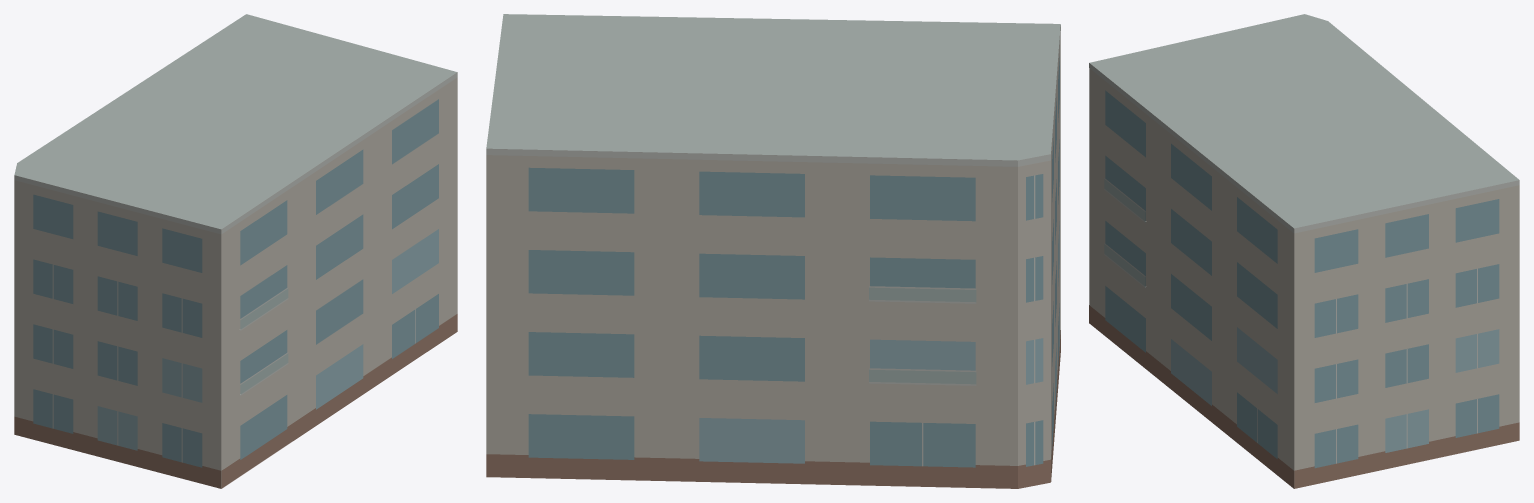
File: survey-upis-32597782.glb
3 renders of one model, left to right at view 1: azimuth 30°, elevation 25°; view 2: azimuth 150°, elevation 25°; view 3: azimuth 270°, elevation 25°, orthographic. The views are drawn at different scales.
Visible parts, largest first — view 1: survey-upis-32597782.tmp; view 2: survey-upis-32597782.tmp; view 3: survey-upis-32597782.tmp.
Boxes of the visible parts, left/top/right/bottom form: survey-upis-32597782.tmp: left=14, top=14, right=457, bottom=488; survey-upis-32597782.tmp: left=486, top=14, right=1060, bottom=488; survey-upis-32597782.tmp: left=1089, top=14, right=1519, bottom=488.
Bounding box in the file's own units: 22.26 × 12.6 × 18.89.
